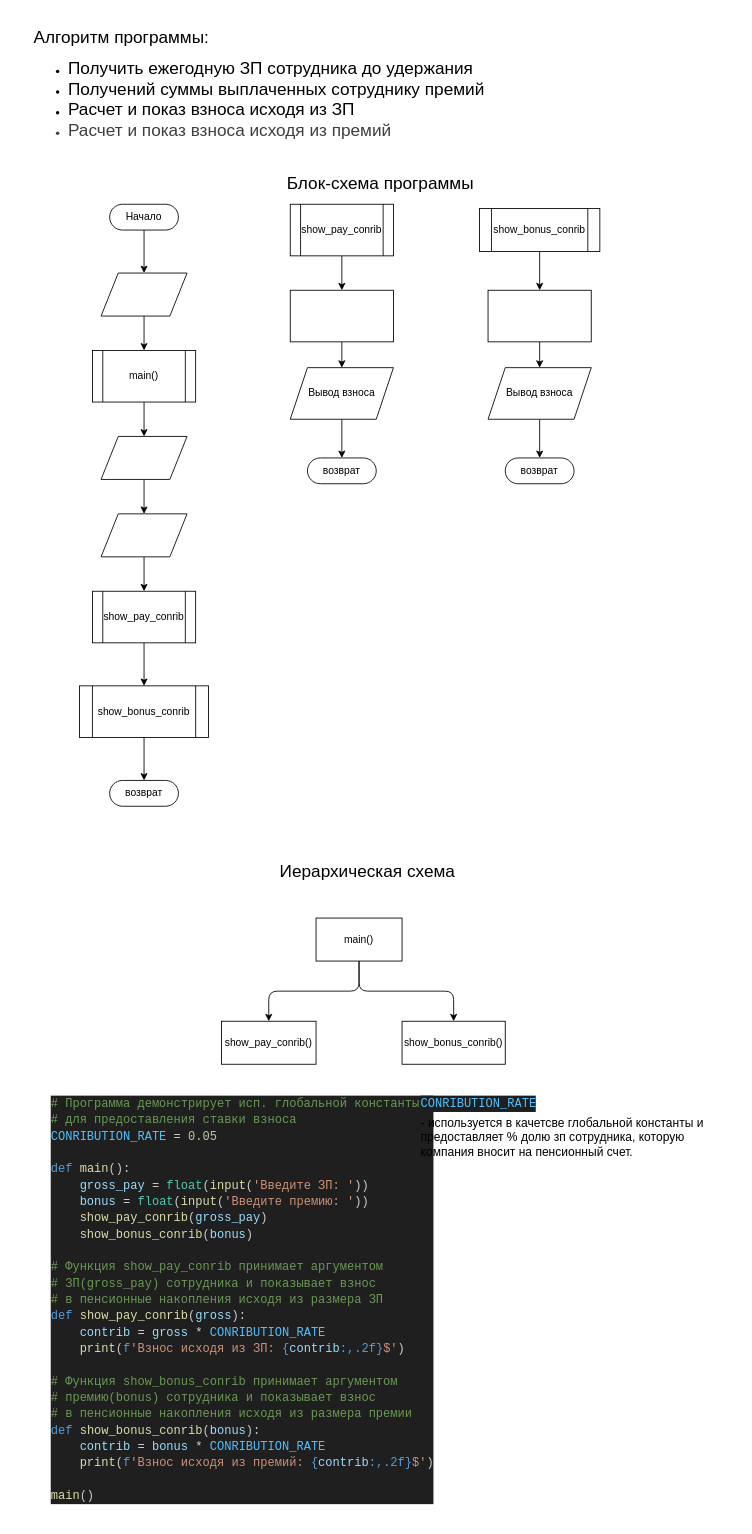
The diagram is 752 pixels wide and 1534 high, and some of its shapes have lost their labels. Here are the shapes that lost their labels. From the top down, the centre of each, then its label:
the point at 143,294: объявление глоб.конст
the point at 341,315: Рассчет взноса исходя из ЗП
the point at 539,315: Рассчет взноса исходя из премм
the point at 143,457: Вводит ЗП
the point at 143,535: Вводит премию
